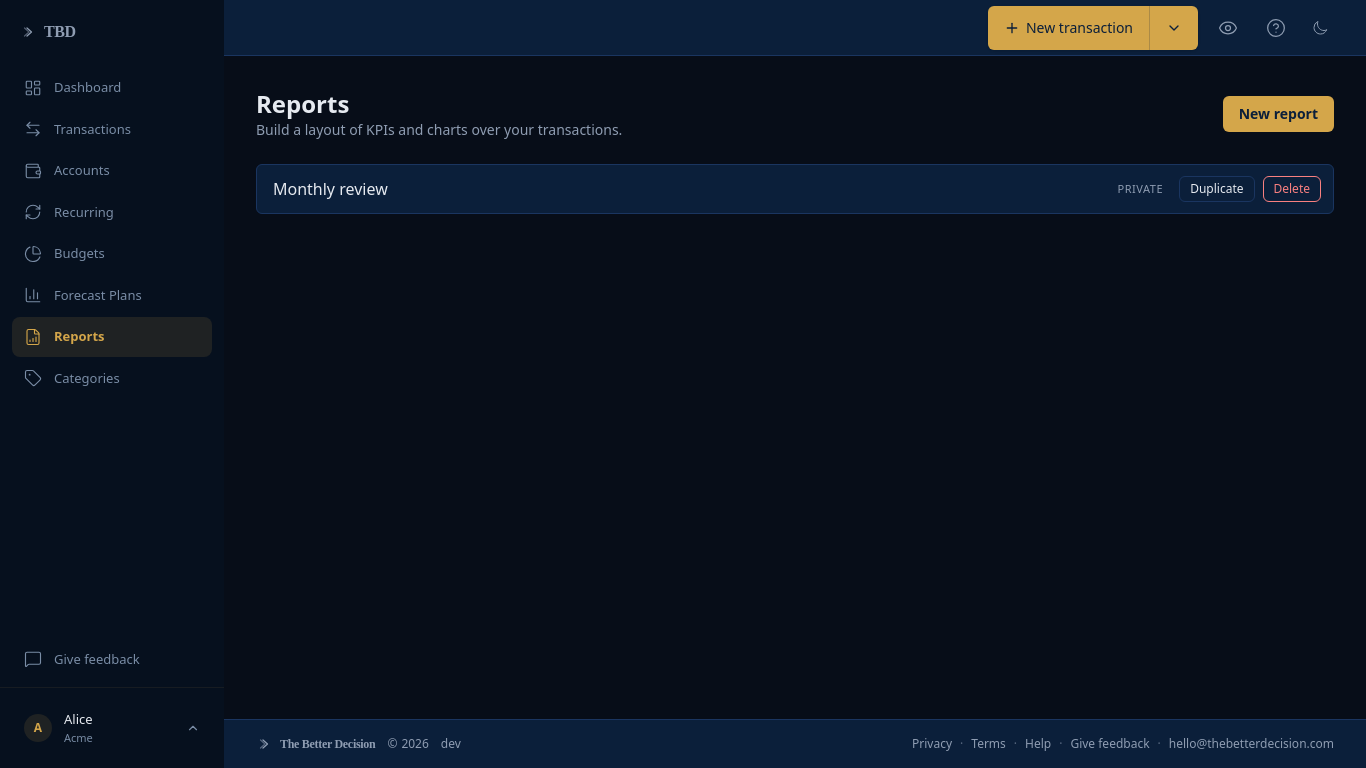
it: ReportsListPage › deletes a report card via confirm and removes it from the list
The image size is (1366, 768).
Expected: the text "Monthly review" is shown, x1=273 y1=177 x2=388 y2=201
Click the button with test id "report-delete-10".
click(1292, 189)  # box x1=1262 y1=176 x2=1321 y2=202
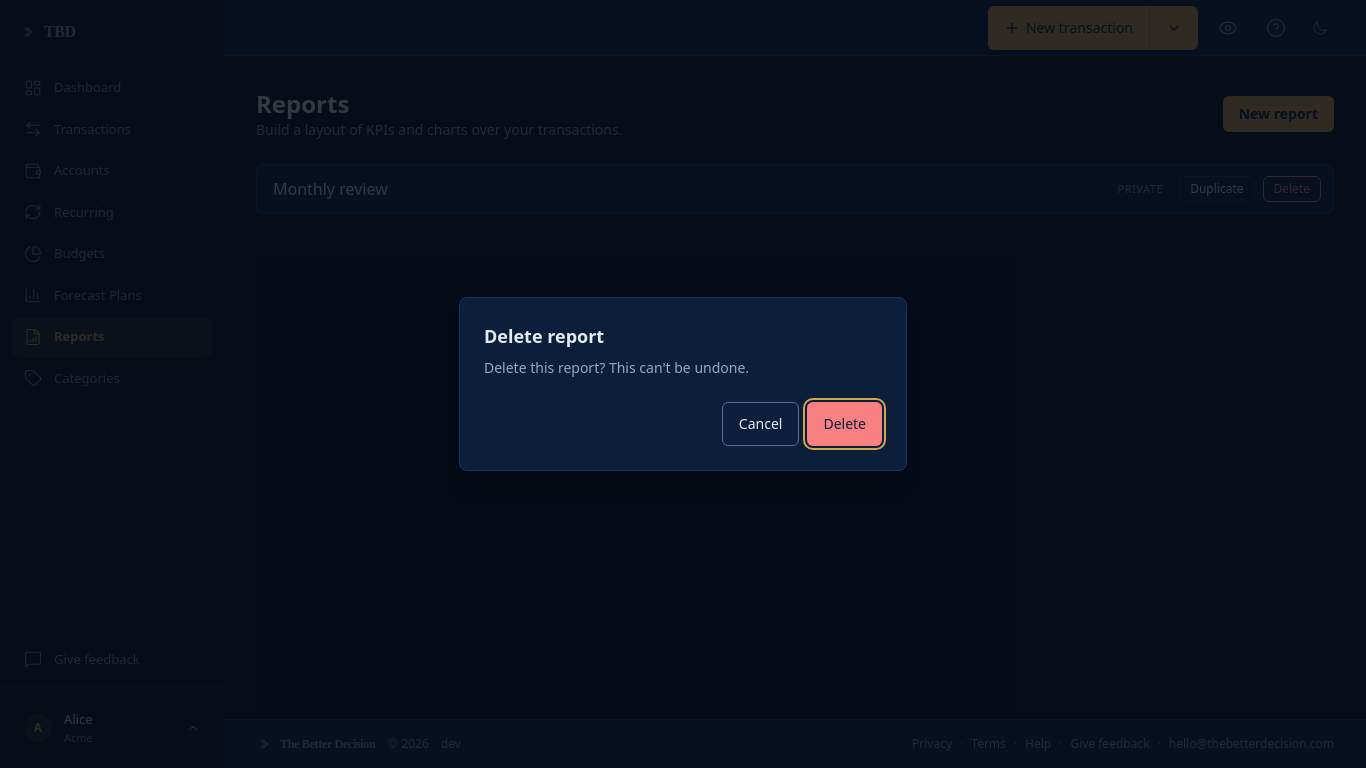
Confirm modal → Delete.
Click the button "Delete".
click(845, 424)  # box x1=807 y1=402 x2=882 y2=446
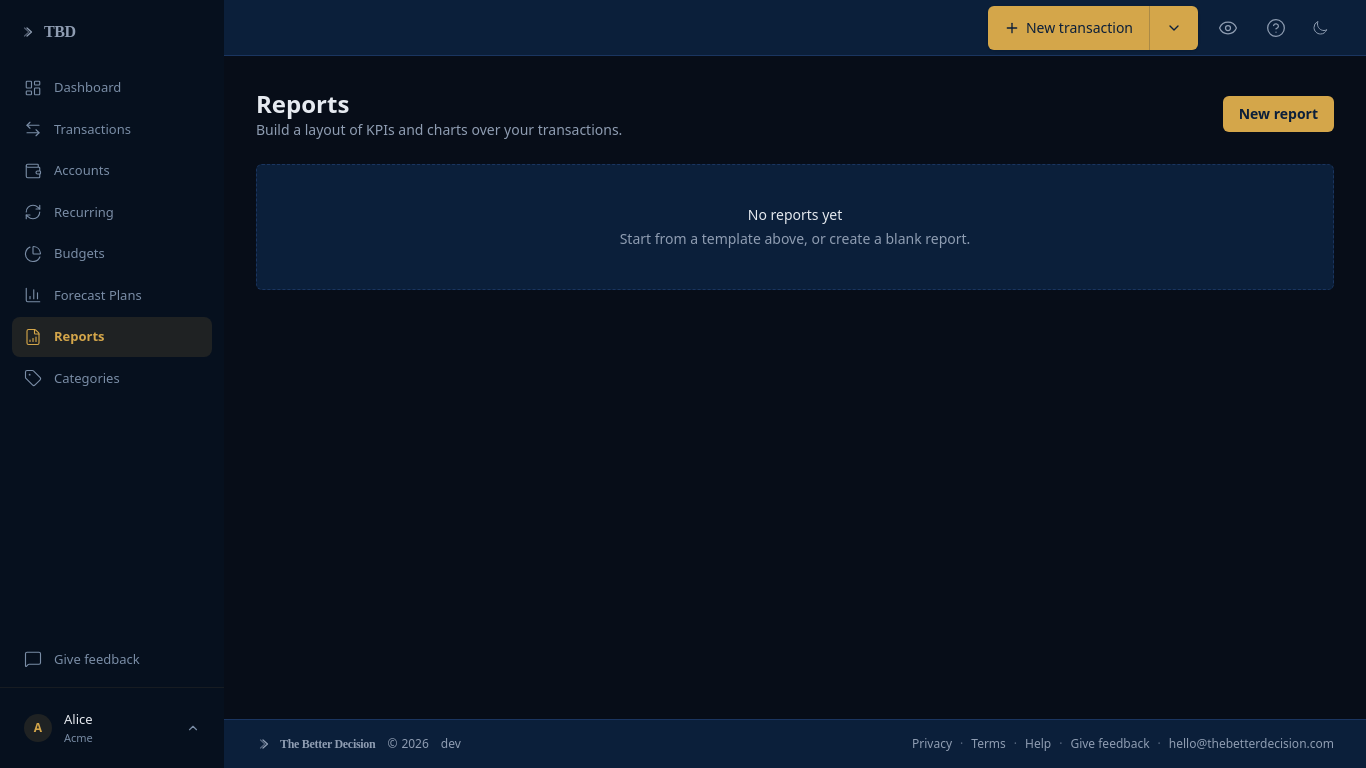
Expected: the link "Monthly review" is gone
